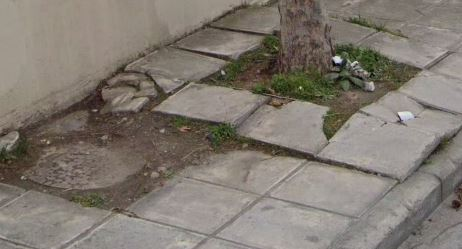trash: (350, 51, 376, 90), (390, 106, 421, 128), (330, 53, 345, 66)
